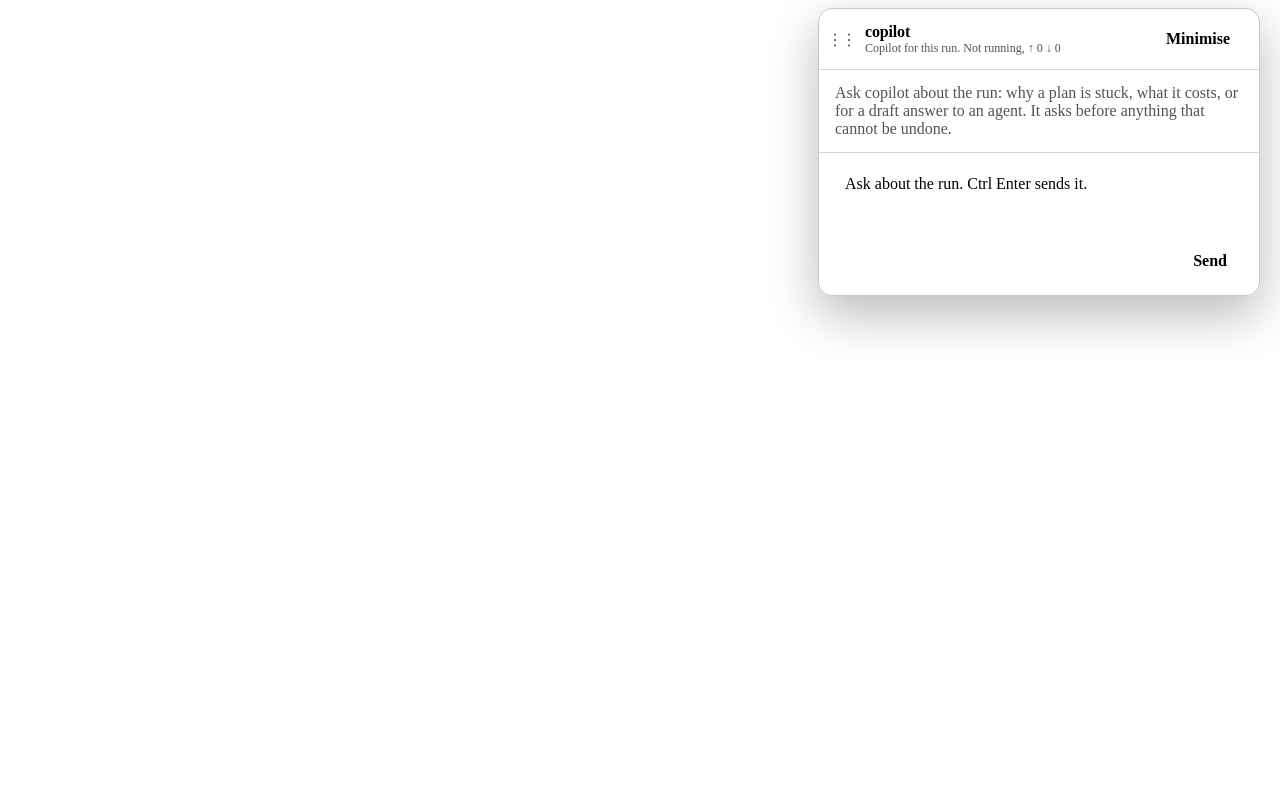
answers locally under ?fixture, where nothing is connected
Expected: the text "Ask copilot about the run" is shown, 835,84 -> 1238,137
In the text box named "Message copilot": [1039, 197] box 835,165 -> 1243,229, type "hello"
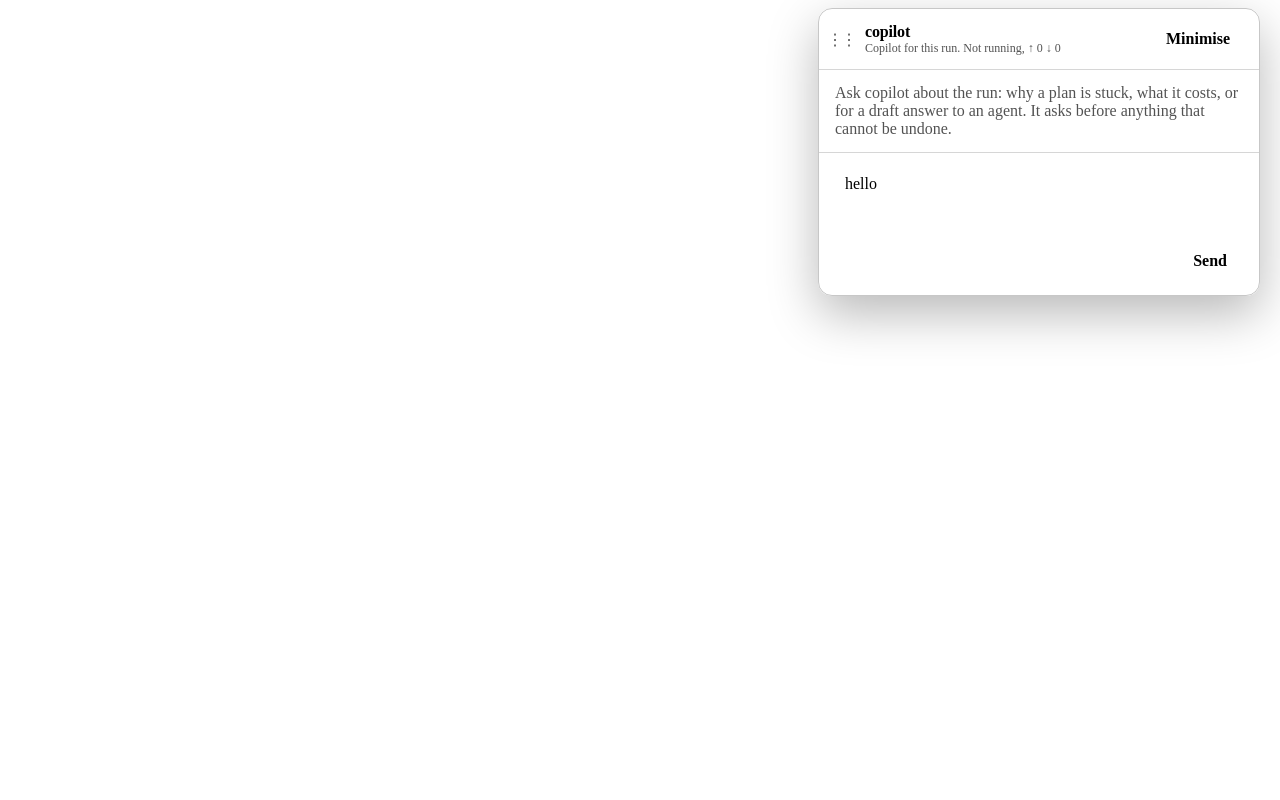
Click the button "Send": [1210, 261] box 1177,241 -> 1243,281
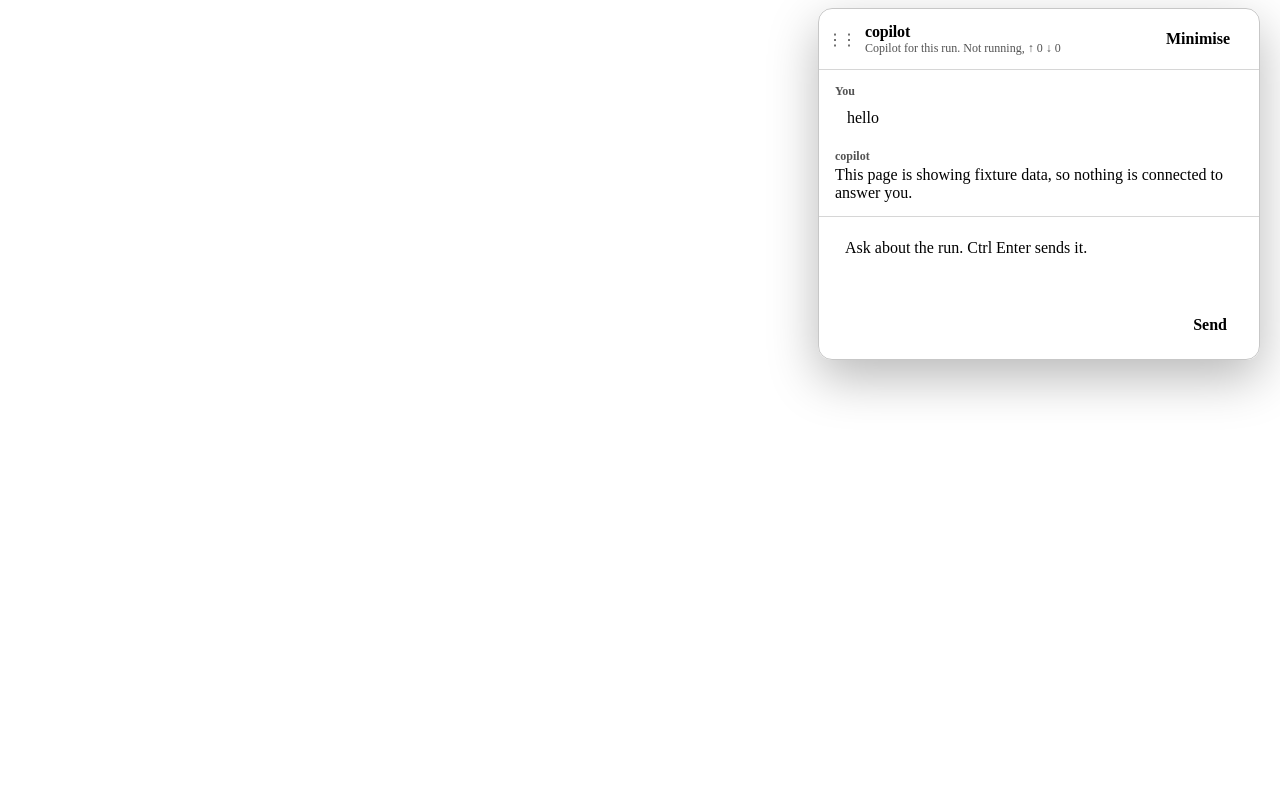
Expected: the text "This page is showing fixture data, so nothing is connected to answer you." is shown, 835,166 -> 1243,202
